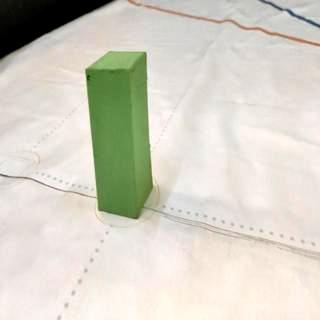greenbox: (86, 50, 153, 218)
